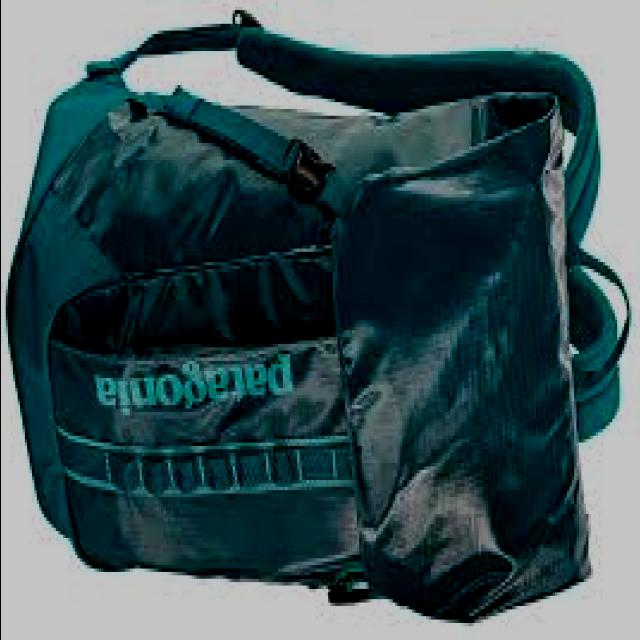backpack: (8, 8, 634, 624)
